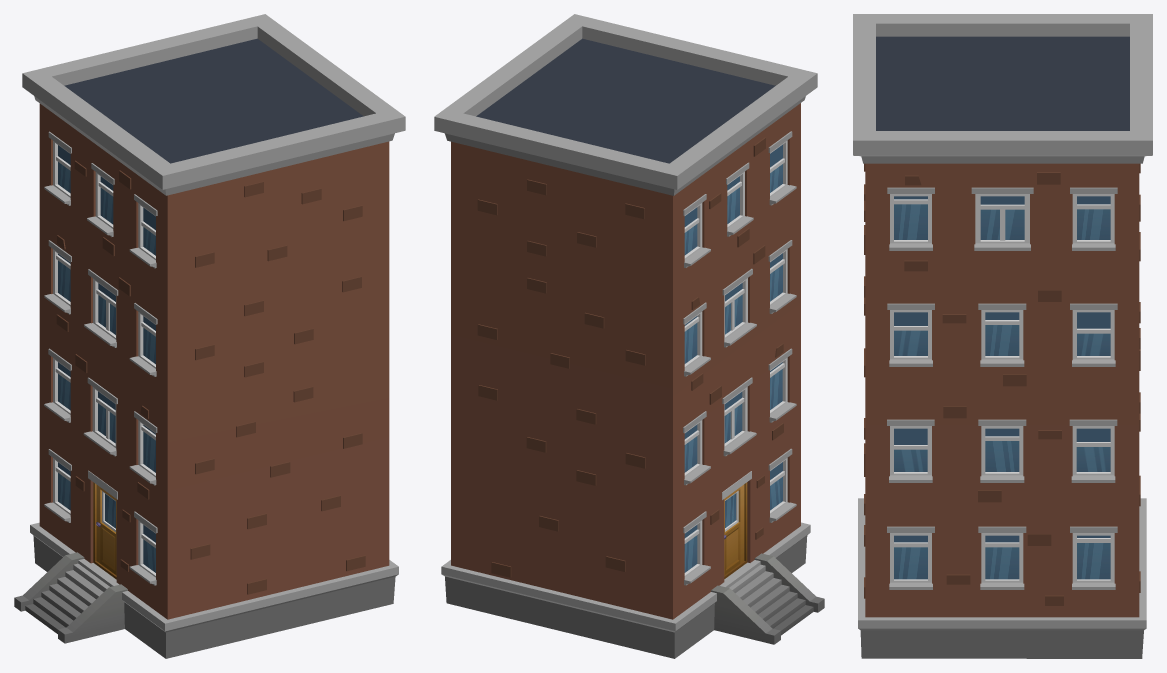
File: Building_2_2_D.fbx
The picture shows the model from 3 angles, left to right: view 1: azimuth 30°, elevation 25°; view 2: azimuth 150°, elevation 25°; view 3: azimuth 270°, elevation 25°; orthographic projection. The views are drawn at different scales.
Parts seen in each view (by area): view 1: Building_2_2_D; view 2: Building_2_2_D; view 3: Building_2_2_D.
Part boxes in pixels (x1,y1,x2,y2): Building_2_2_D: (14, 14, 405, 658); Building_2_2_D: (434, 14, 824, 658); Building_2_2_D: (853, 14, 1152, 658).
Size of the model in its own units: 754 by 1191 by 620.
